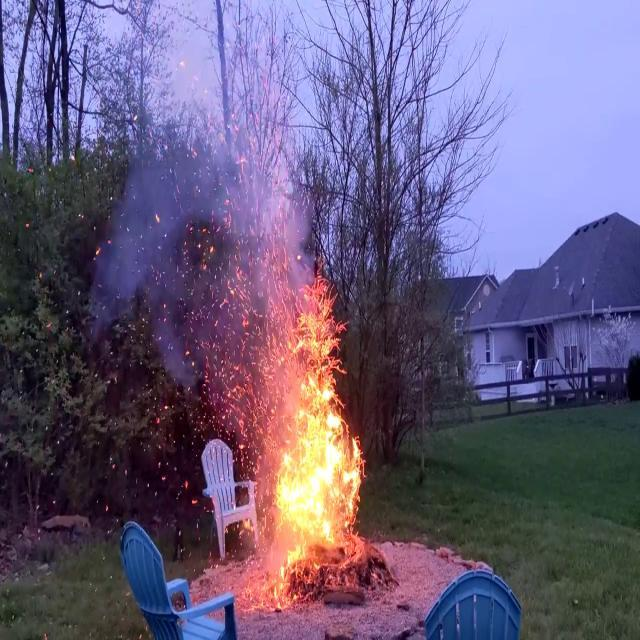Fire: (259, 271, 369, 585)
Smoke: (89, 6, 318, 360)
